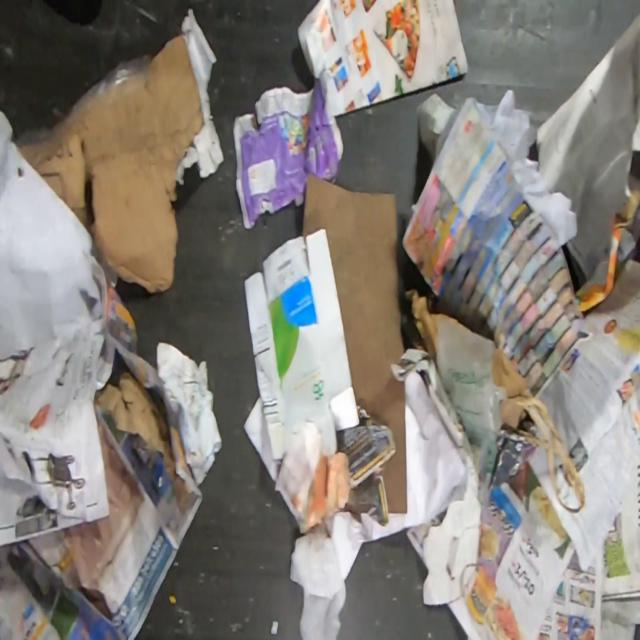cardboard: (18, 33, 204, 294), (302, 174, 407, 514), (243, 227, 361, 466), (574, 189, 640, 314)
